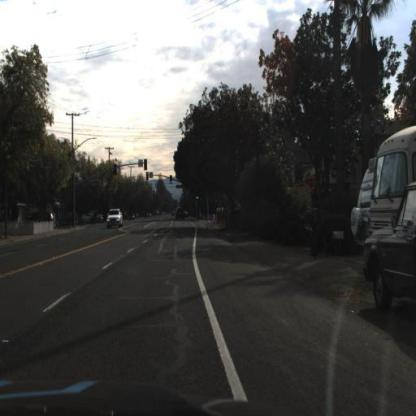car: (364, 183, 416, 315), (108, 208, 124, 229)
truck: (368, 121, 416, 257)
